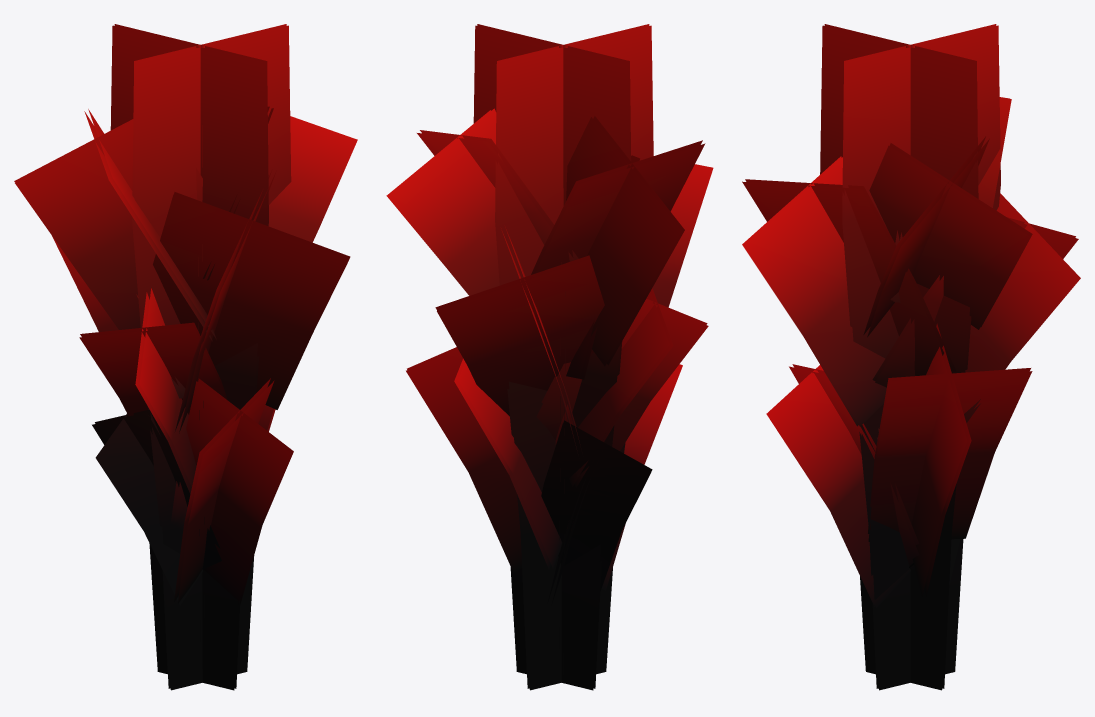
The model's file is TinyW15_AFS_high.FBX.
3 views of the same model, side by side, from view 1: azimuth 30°, elevation 25°; view 2: azimuth 150°, elevation 25°; view 3: azimuth 270°, elevation 25° (orthographic).
Parts seen in each view (by area): view 1: TinyW15_AFS_high; view 2: TinyW15_AFS_high; view 3: TinyW15_AFS_high.
Boxes of the visible parts, x1,y1,x2,y2 form: TinyW15_AFS_high: (14,24,357,690); TinyW15_AFS_high: (386,24,713,690); TinyW15_AFS_high: (742,24,1080,690).
Bounding box in the file's own units: 0.481 × 0.9567 × 0.4628.
